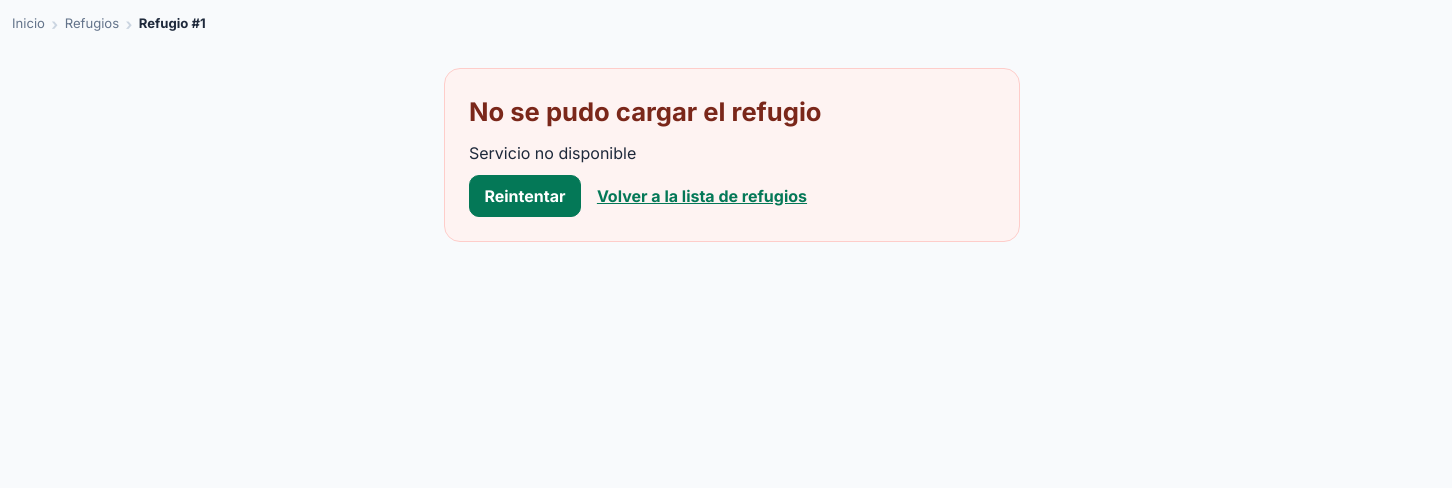
ShelterDetailPage › retries a failed request and displays the shelter when it succeeds
This screenshot has width=1452, height=488.
Click the button "Reintentar".
click(525, 196)  # box [469,175,581,217]
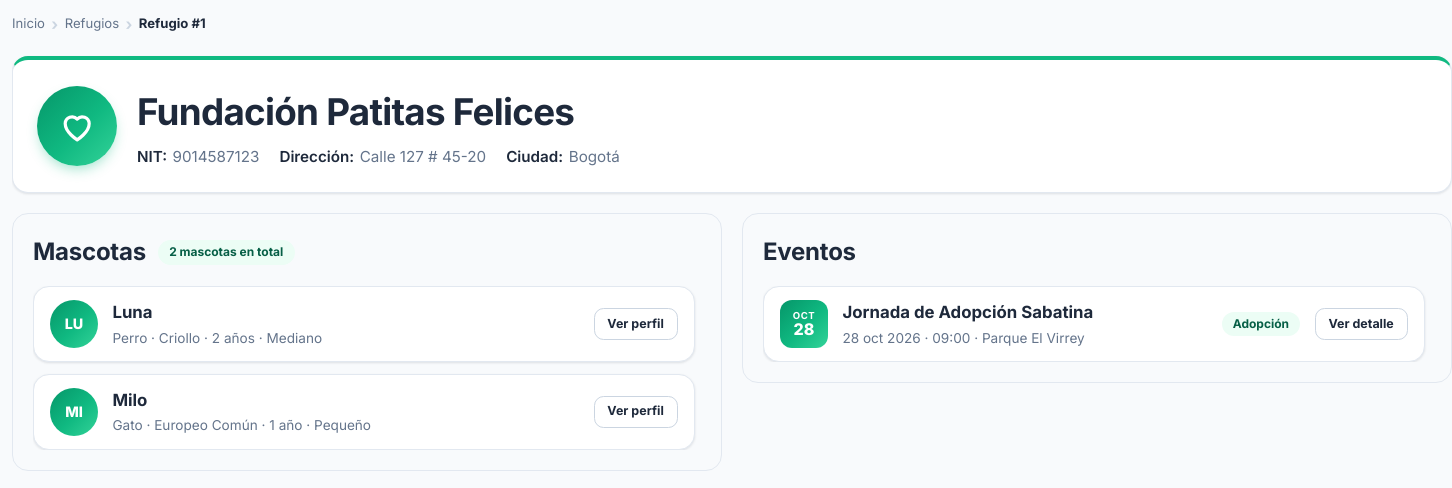
Now the heading "Fundación Patitas Felices" is shown, box [137,89,574,134]
